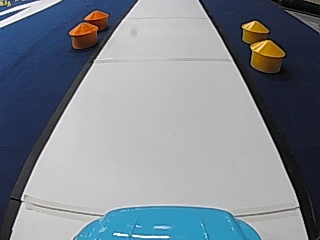granary: (247, 37, 286, 72), (66, 21, 97, 49), (239, 18, 270, 43), (83, 8, 109, 30)
